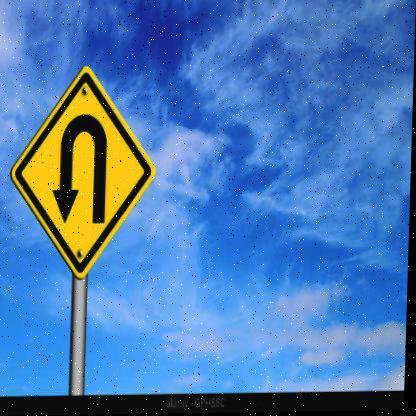U-turn: (8, 59, 158, 281)
